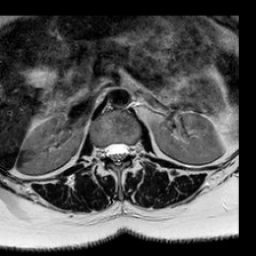CCS_normal: (113, 134, 121, 172)
LFS_normal: (128, 134, 135, 162)
LLS_normal: (121, 134, 128, 166)
RFS_normal: (97, 137, 105, 166)
RLS_normal: (105, 135, 113, 166)
